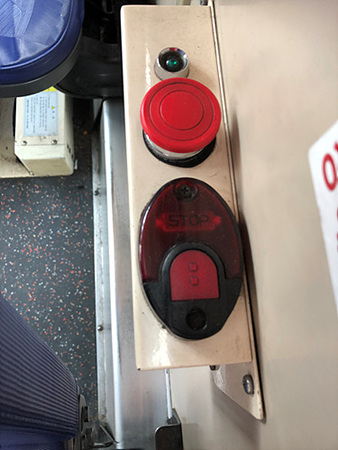bell: (138, 177, 251, 340)
